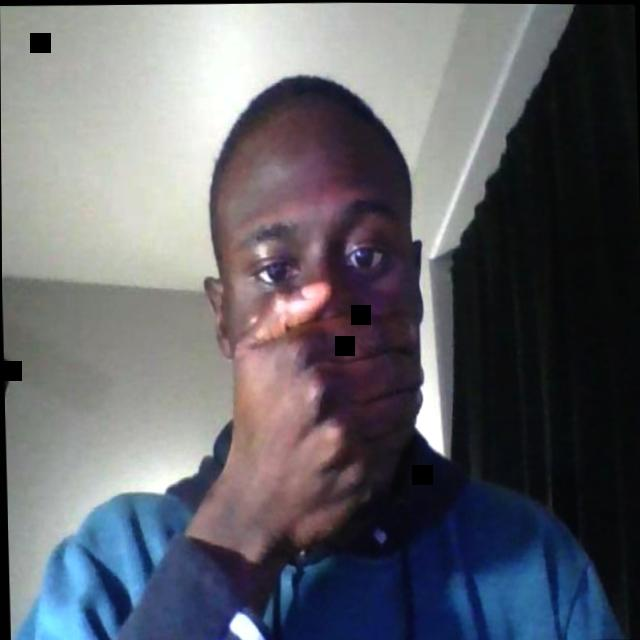NO-Mask: (217, 193, 420, 368)
